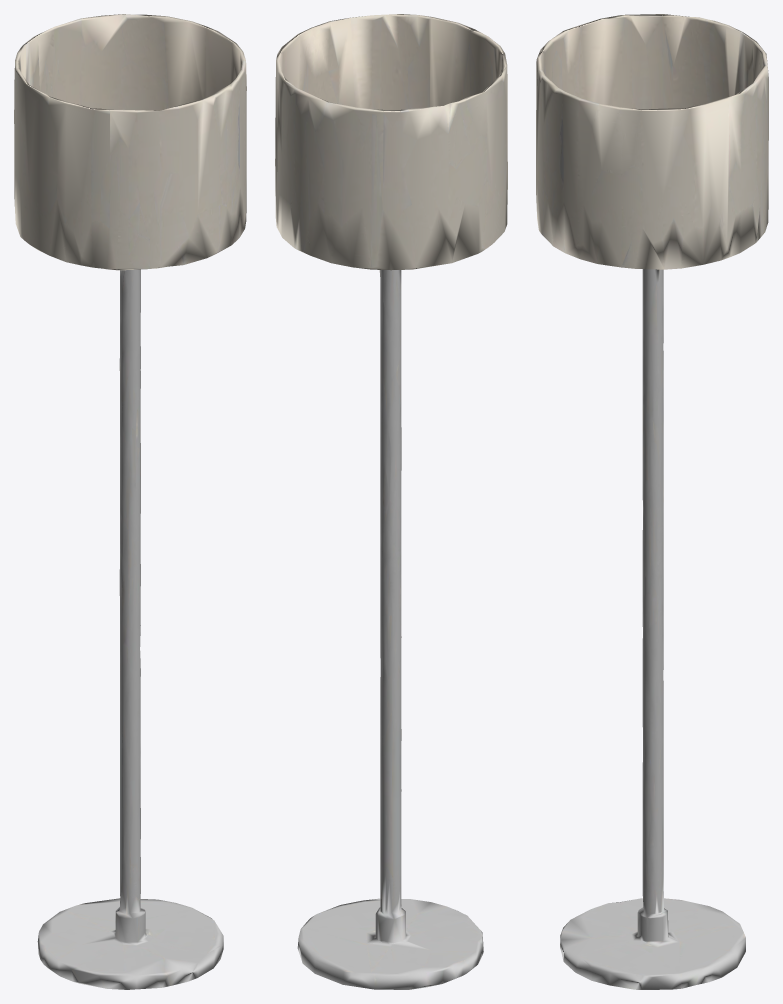
Rendered from floorlamp.glb.
3 renders of one model, left to right at view 1: azimuth 30°, elevation 25°; view 2: azimuth 150°, elevation 25°; view 3: azimuth 270°, elevation 25°, orthographic.
Bounding box in the file's own units: 0.4511 × 1.9 × 0.4509.
1 material, 1 textured.
